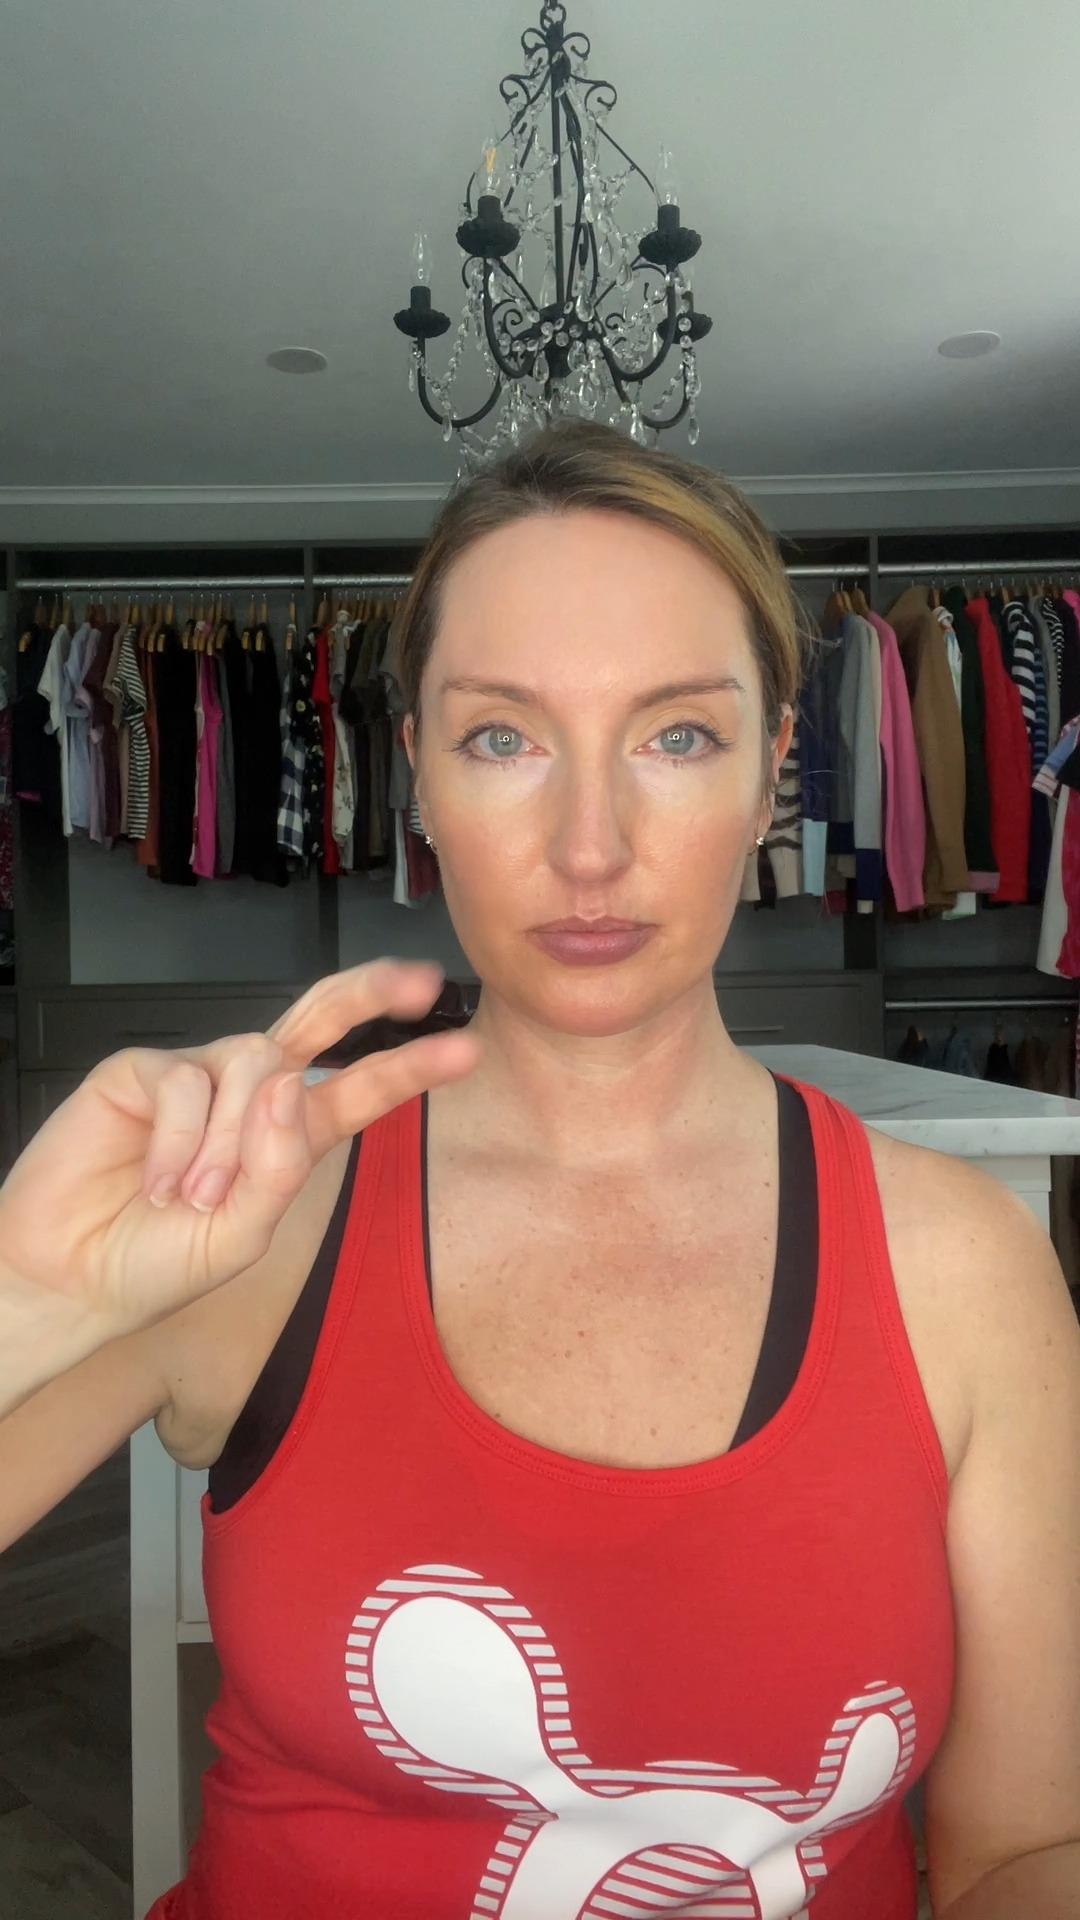Scissors: (4, 971, 467, 1321)
